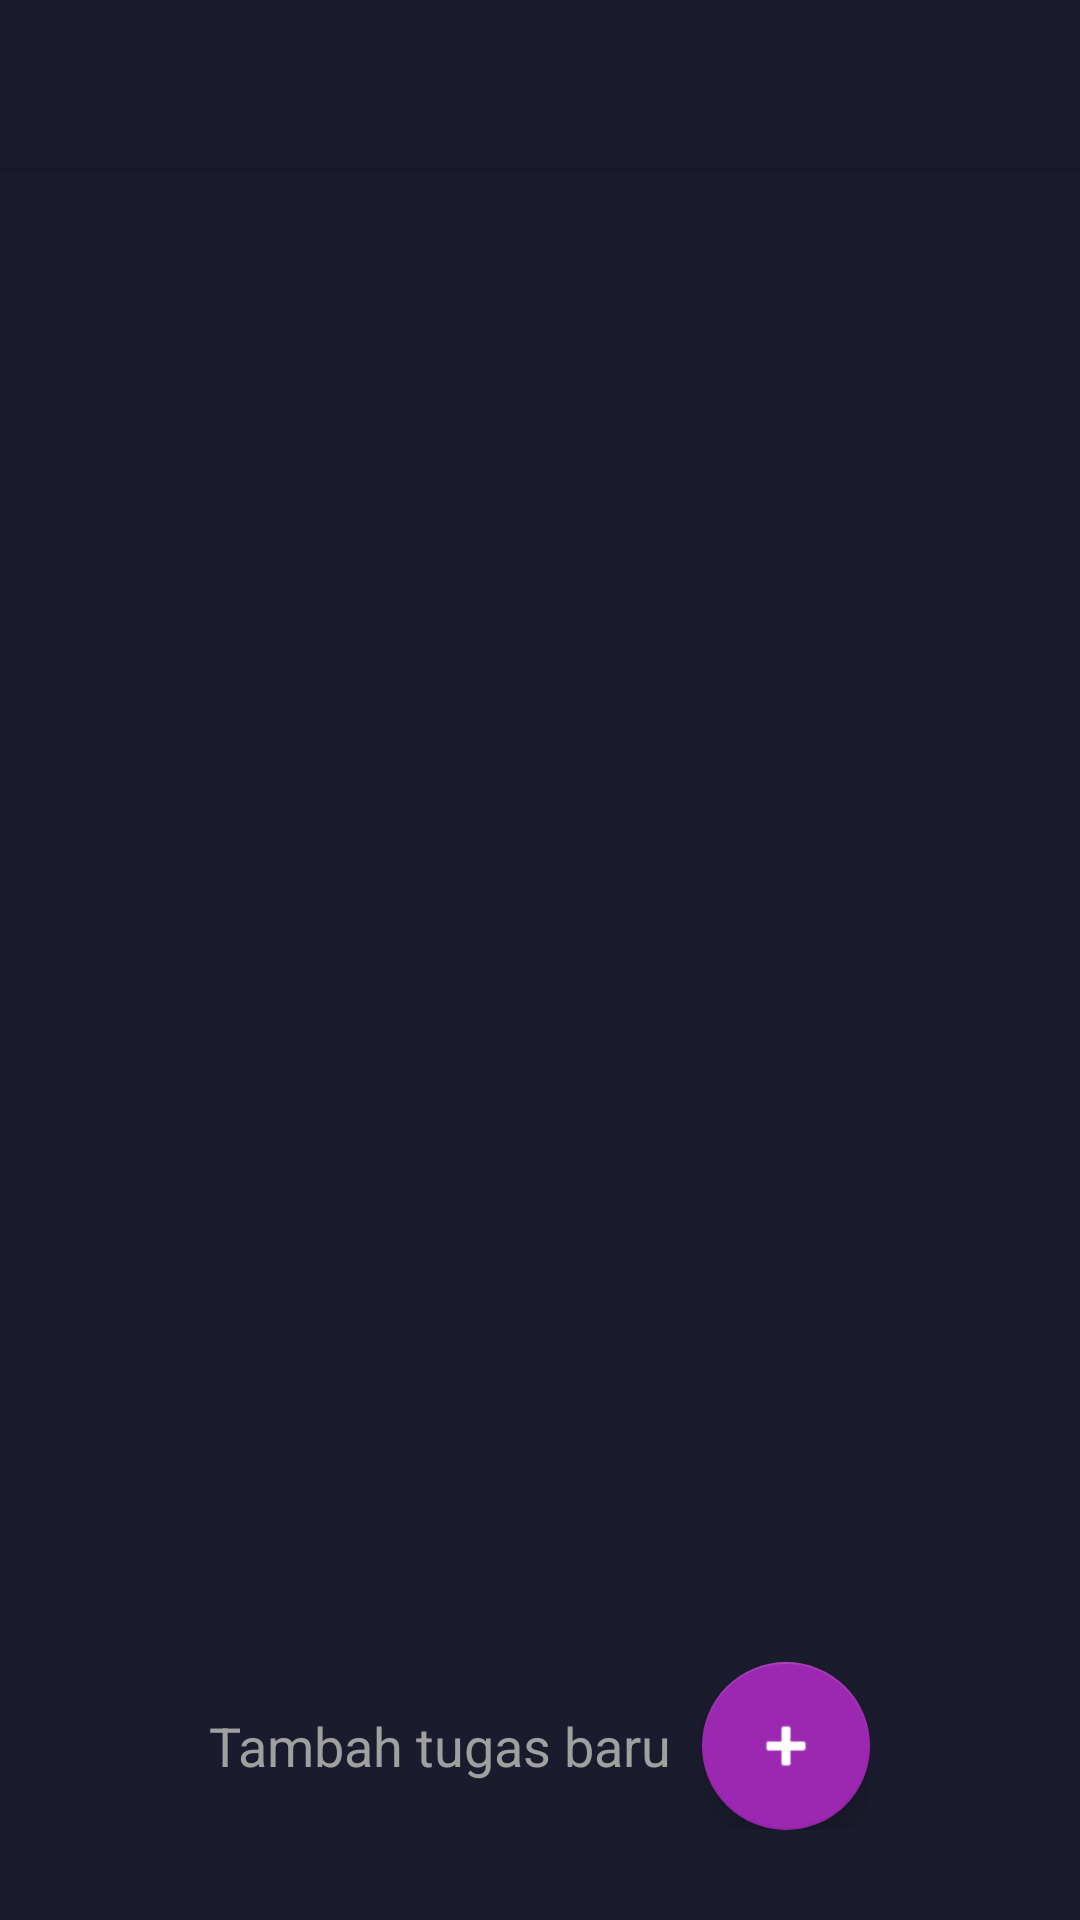

Screen size 1080 × 1920. Icon name, then its center in pixels as [x,y]:
Tambah Pengingat: [786,1746]
